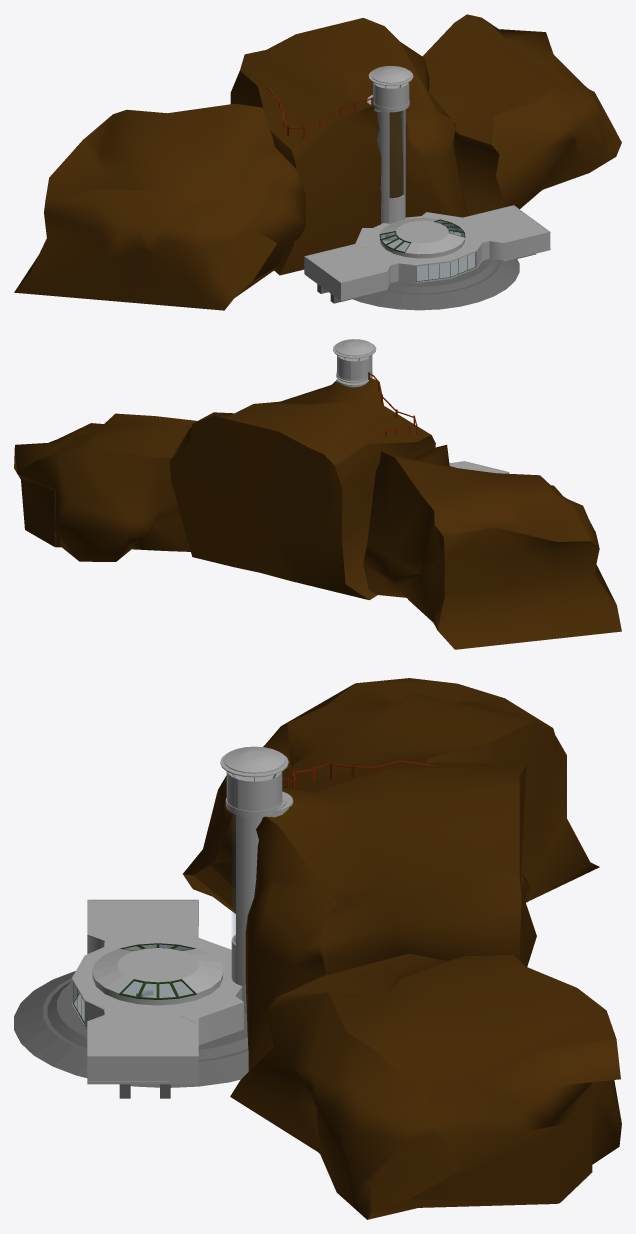
The model's file is baotang.fbx.
3 views of the same model, one above another, from view 1: azimuth 30°, elevation 25°; view 2: azimuth 150°, elevation 25°; view 3: azimuth 270°, elevation 25° (orthographic). The views are drawn at different scales.
Visible parts, largest first — view 1: nui1, be_betong, trangiua, polySurface3, pCube4, polySurface8, pCylinder1, polySurface25, pCylinder18, lancan1; view 2: nui1, pCylinder18, polySurface25; view 3: nui1, trangiua, pCube4, be_betong, polySurface3, polySurface8, polySurface25, pCylinder18, pCylinder1.
Boxes of the visible parts, bbox=[...] form: nui1: bbox=[14, 14, 621, 310]; be_betong: bbox=[317, 253, 535, 310]; trangiua: bbox=[356, 212, 482, 266]; polySurface3: bbox=[304, 205, 550, 299]; pCube4: bbox=[307, 206, 550, 283]; polySurface8: bbox=[377, 109, 405, 240]; pCylinder1: bbox=[383, 239, 482, 283]; polySurface25: bbox=[373, 82, 409, 107]; pCylinder18: bbox=[368, 66, 413, 85]; lancan1: bbox=[264, 85, 373, 138]; nui1: bbox=[14, 377, 621, 649]; pCylinder18: bbox=[333, 339, 376, 358]; polySurface25: bbox=[337, 355, 372, 379]; nui1: bbox=[183, 678, 621, 1219]; trangiua: bbox=[71, 938, 243, 1017]; pCube4: bbox=[87, 901, 198, 1057]; be_betong: bbox=[14, 971, 248, 1098]; polySurface3: bbox=[72, 899, 243, 1082]; polySurface8: bbox=[236, 815, 262, 1014]; polySurface25: bbox=[226, 772, 282, 811]; pCylinder18: bbox=[220, 746, 288, 777]; pCylinder1: bbox=[71, 981, 243, 1045].
Bounding box in the file's own units: 3948 × 1127 × 2272.
